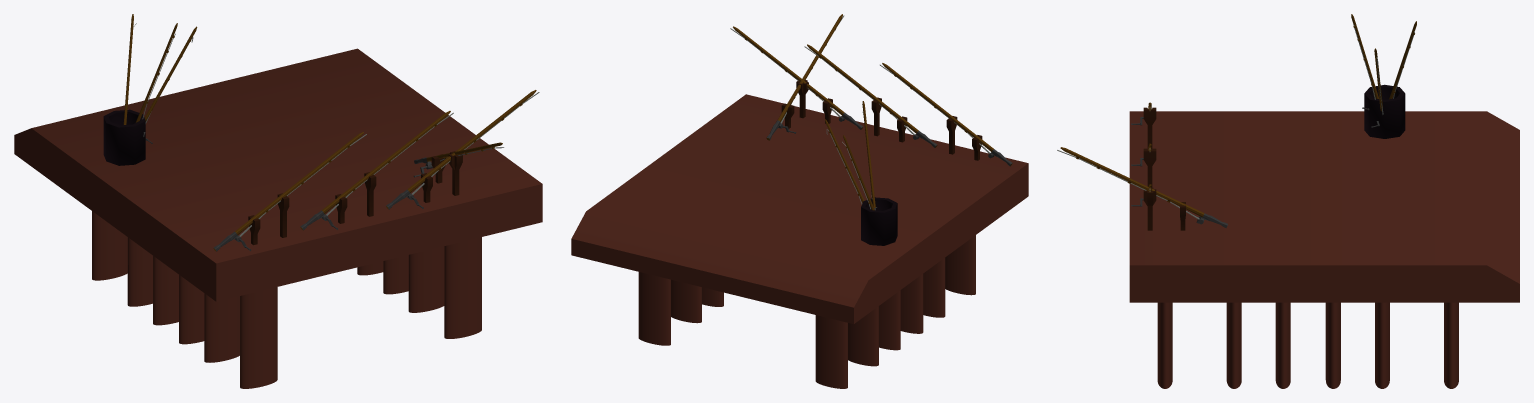
The model's file is molo.fbx.
The picture shows the model from 3 angles, left to right: view 1: azimuth 30°, elevation 25°; view 2: azimuth 150°, elevation 25°; view 3: azimuth 270°, elevation 25°; orthographic projection. The views are drawn at different scales.
Visible parts, largest first — view 1: Cylinder, Cube, FishingRod.007, FishingRod.004, FishingRod.005, FishingRod.006, FishingRod.001; view 2: Cylinder, Cube, FishingRod.004, FishingRod.007, FishingRod.005, FishingRod.006; view 3: Cylinder, Cube, FishingRod.006.
Part boxes in pixels (<box>): Cylinder: <box>14,48,542,388</box>; Cube: <box>103,109,145,165</box>; FishingRod.007: <box>213,132,366,251</box>; FishingRod.004: <box>300,111,453,230</box>; FishingRod.005: <box>386,90,539,209</box>; FishingRod.006: <box>413,142,504,177</box>; FishingRod.001: <box>135,23,177,136</box>; Cylinder: <box>571,94,1028,388</box>; Cube: <box>861,197,897,245</box>; FishingRod.004: <box>804,44,937,147</box>; FishingRod.007: <box>880,63,1012,166</box>; FishingRod.005: <box>730,26,862,129</box>; FishingRod.006: <box>766,14,844,140</box>; Cylinder: <box>1129,111,1519,388</box>; Cube: <box>1364,84,1405,138</box>; FishingRod.006: <box>1057,147,1227,227</box>.
Size of the model in its own units: 1821 by 1491 by 2260.
